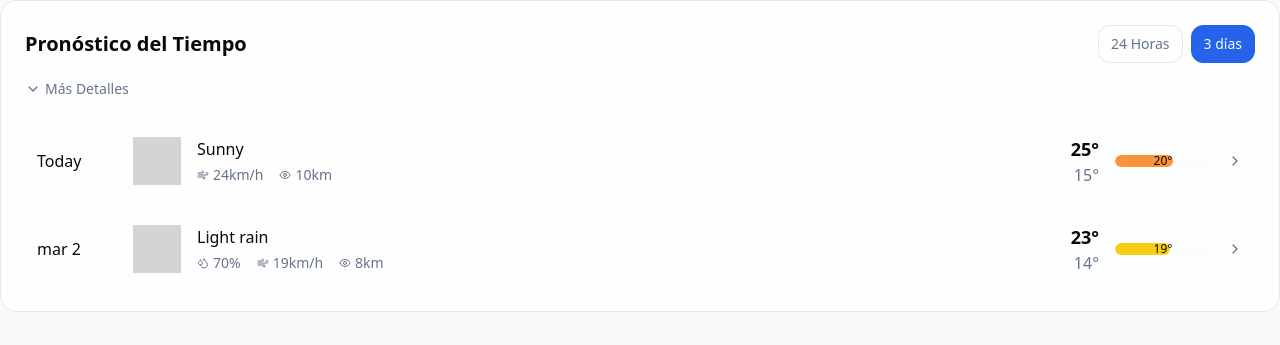
DailyForecast › shows more details when clicking Más Detalles
Click the button "Más Detalles" at (87, 88), box [25,79,1255,99]
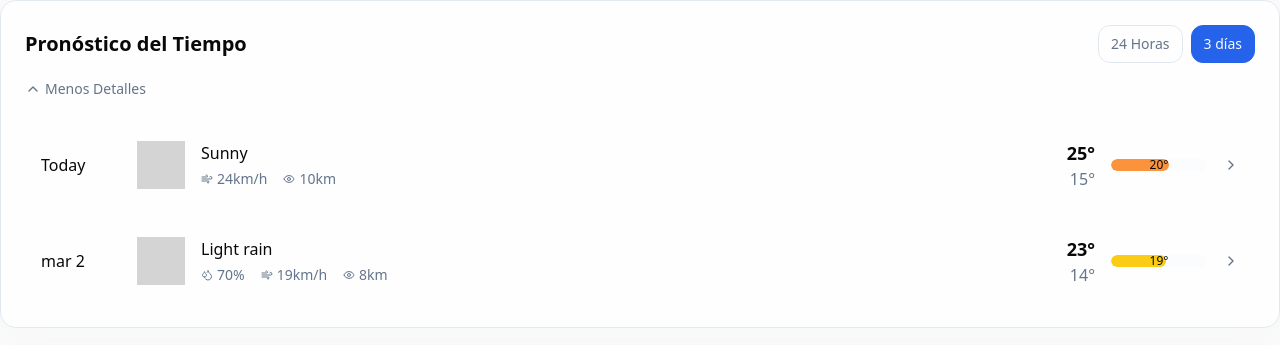
Result: the text "Menos Detalles" is shown at [45,79,146,99]
